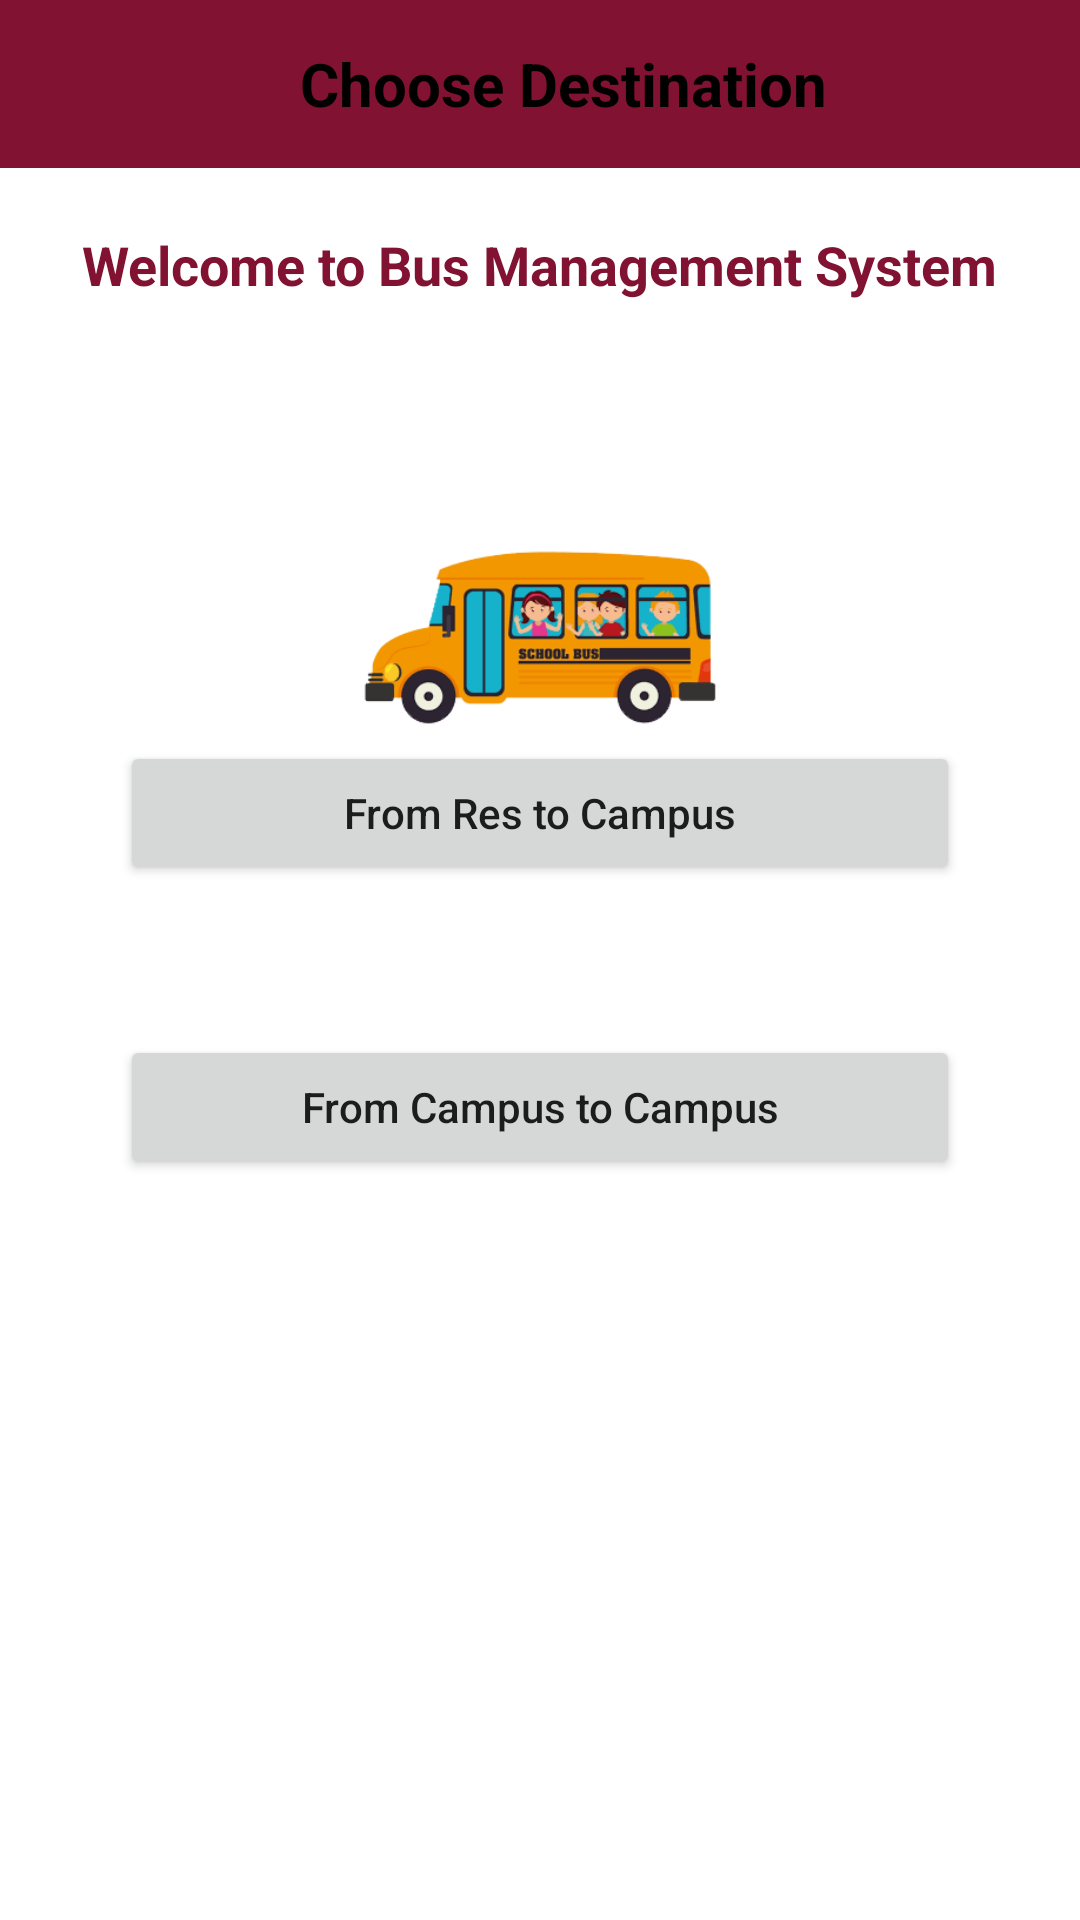

Locate icon controls on the screen. Image size 1080px x 1920px, boxes as (x1, y1, x2, y2).
trans bus: (364, 551, 716, 724)
